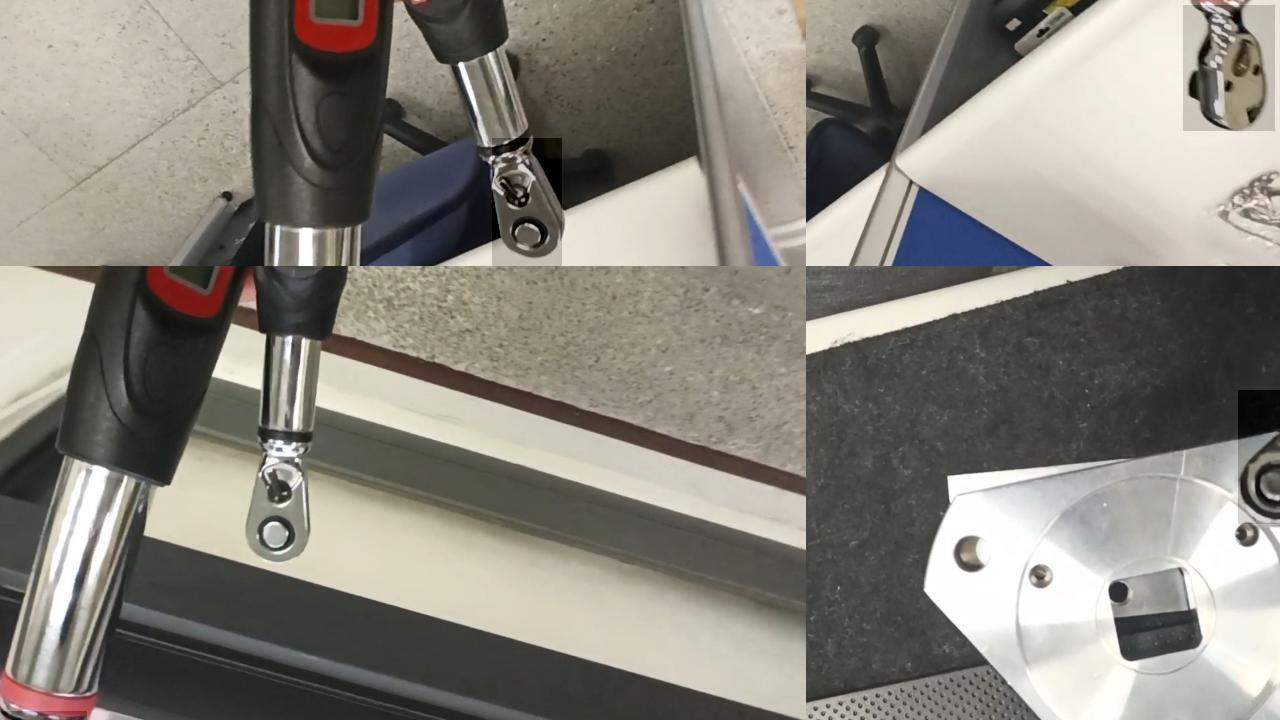Tool: (1183, 5, 1275, 131), (492, 138, 562, 266), (245, 448, 312, 562), (1238, 390, 1280, 524)
